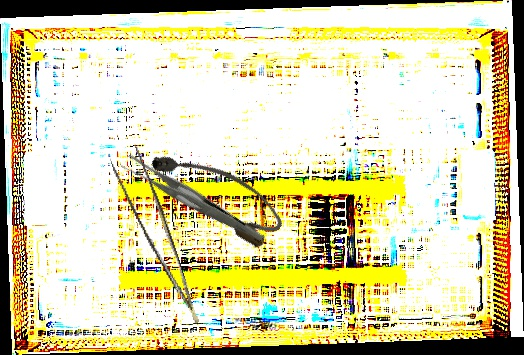Cannula: (143, 131, 291, 254)
Dressing Forceps: (119, 124, 264, 277)
Tissue Forceps: (107, 141, 200, 333)
